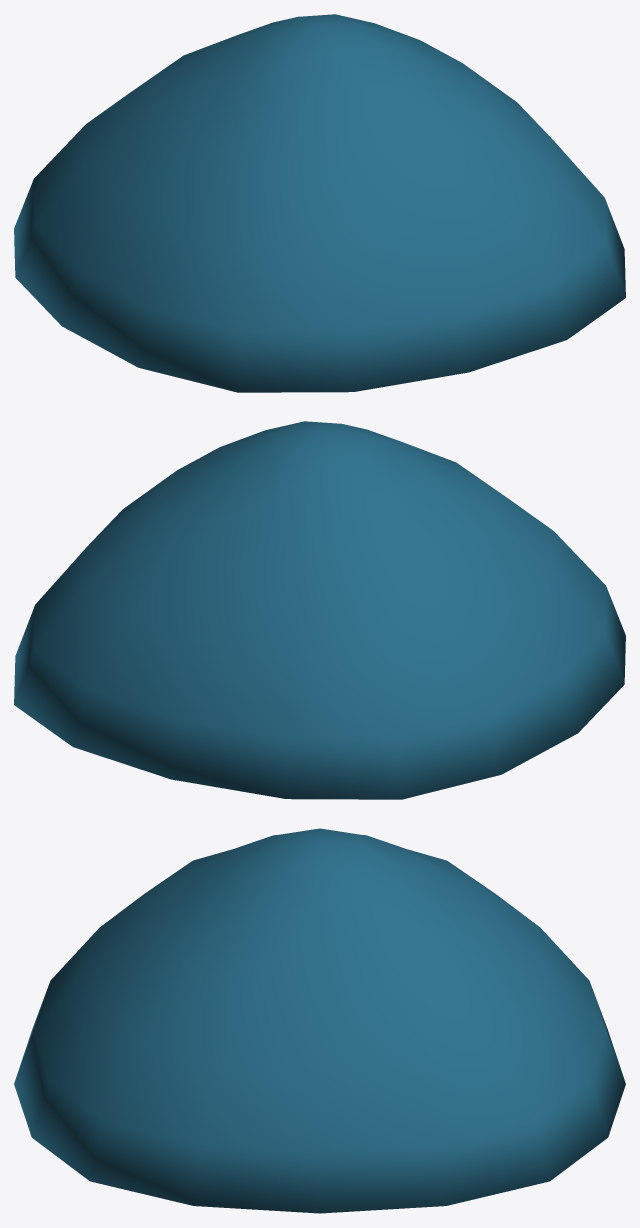
File: mushroomhead.gltf
3 renders of one model, top to bottom at view 1: azimuth 30°, elevation 25°; view 2: azimuth 150°, elevation 25°; view 3: azimuth 270°, elevation 25°, orthographic. The views are drawn at different scales.
Visible parts, largest first — view 1: Mushnub_Blob; view 2: Mushnub_Blob; view 3: Mushnub_Blob.
Boxes of the visible parts, bbox=[...] form: Mushnub_Blob: bbox=[14, 14, 625, 392]; Mushnub_Blob: bbox=[14, 421, 625, 799]; Mushnub_Blob: bbox=[14, 828, 625, 1213].
Size of the model in its own units: 2.75 by 1.38 by 2.75.
